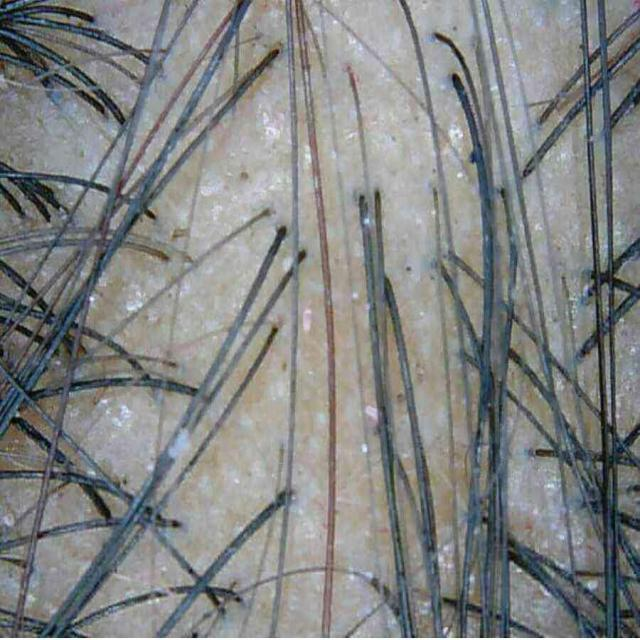d: (166, 423, 190, 459), (365, 405, 378, 425), (302, 142, 310, 170), (586, 580, 599, 591), (361, 443, 369, 454)
ds: (508, 447, 566, 551), (255, 92, 290, 153), (89, 398, 138, 440), (115, 279, 152, 319), (196, 152, 225, 200), (204, 202, 236, 224), (449, 125, 464, 151), (301, 308, 312, 332), (281, 254, 292, 271)
